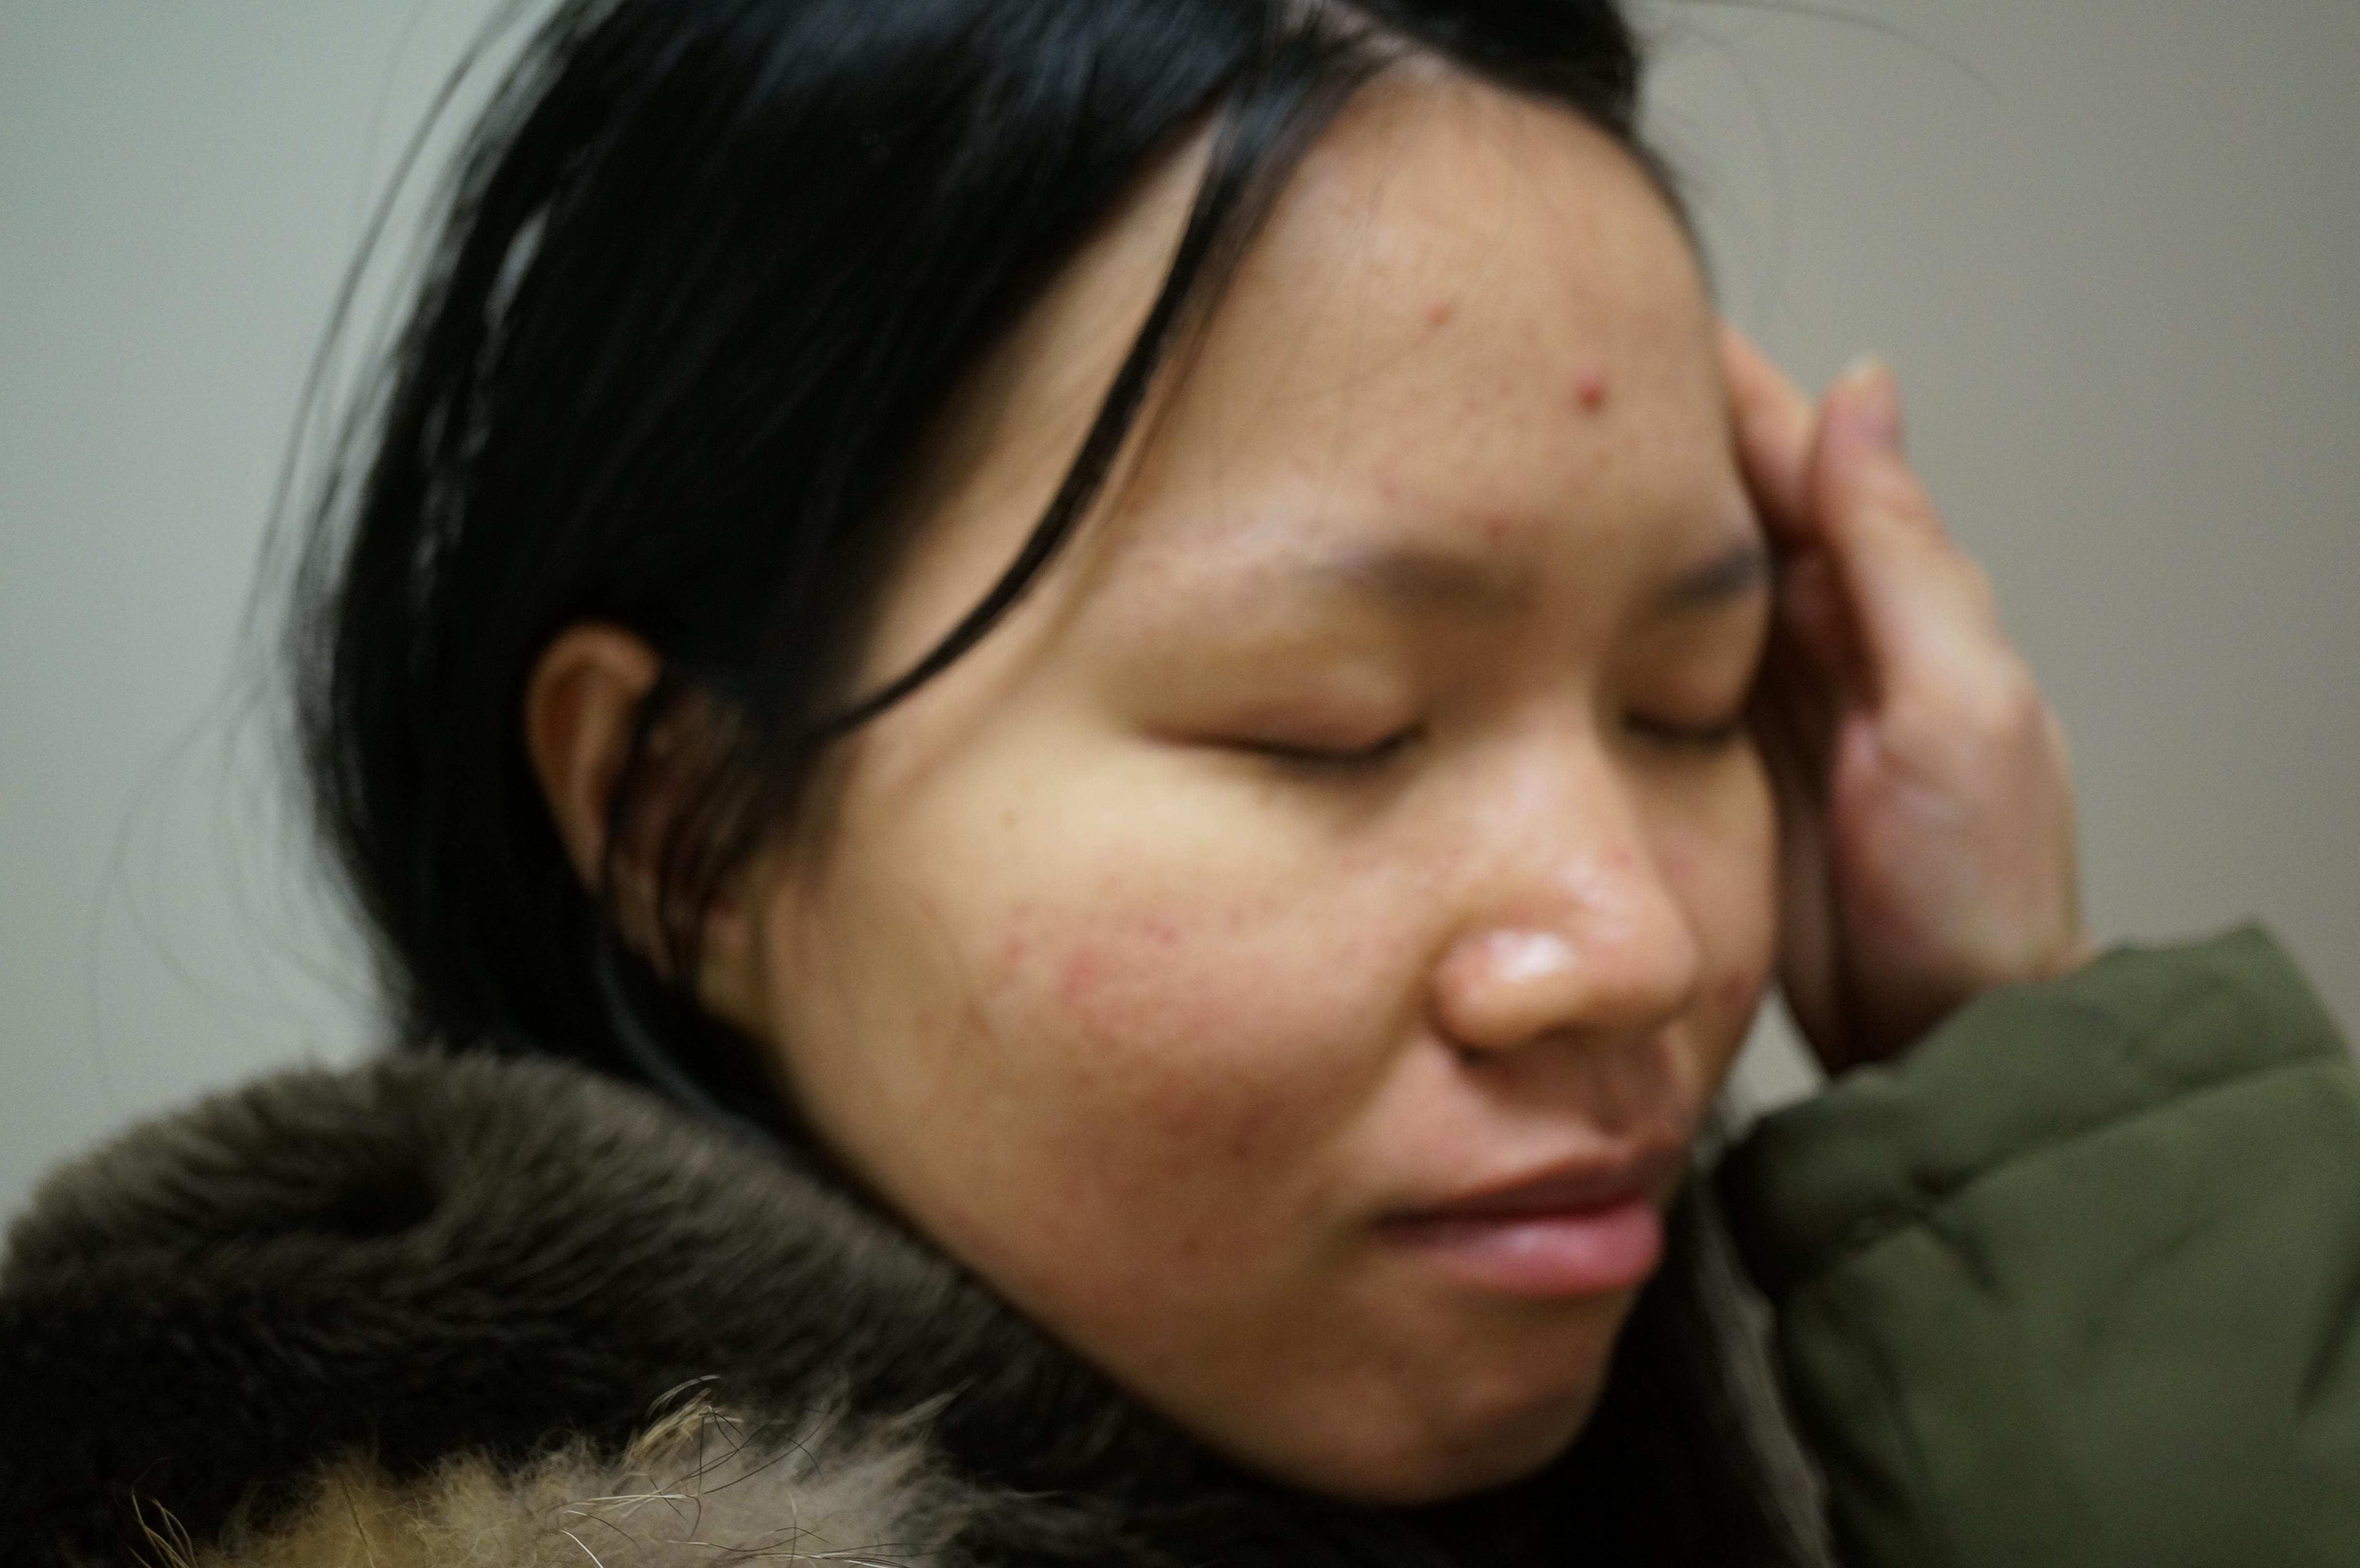fore: (1401, 269, 1492, 374), (1053, 924, 1128, 1001), (1568, 369, 1632, 444), (1221, 1101, 1293, 1167), (1169, 1204, 1228, 1283), (1009, 1251, 1069, 1304)
